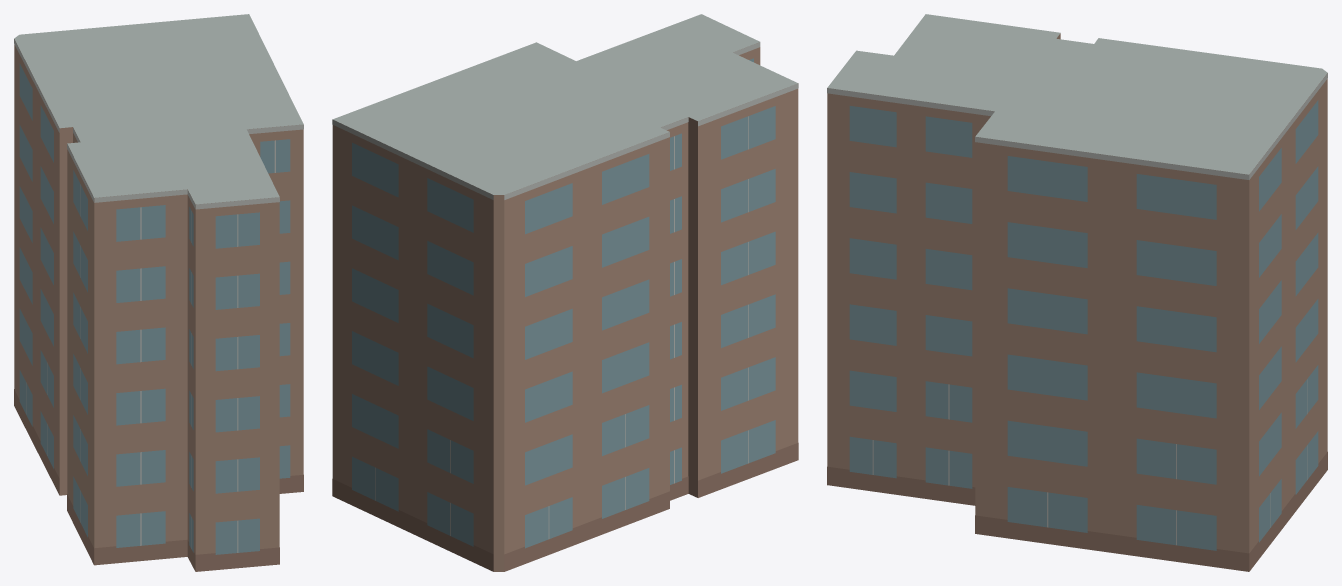
Rendered from survey-upis-32718899.glb.
The picture shows the model from 3 angles, left to right: view 1: azimuth 30°, elevation 25°; view 2: azimuth 150°, elevation 25°; view 3: azimuth 270°, elevation 25°; orthographic projection. The views are drawn at different scales.
Parts seen in each view (by area): view 1: survey-upis-32718899.tmp; view 2: survey-upis-32718899.tmp; view 3: survey-upis-32718899.tmp.
Part boxes in pixels (x1,y1,x2,y2): survey-upis-32718899.tmp: (14,14,303,571); survey-upis-32718899.tmp: (332,14,798,571); survey-upis-32718899.tmp: (827,14,1327,571).
Size of the model in its own units: 15.46 by 17.8 by 20.35.
